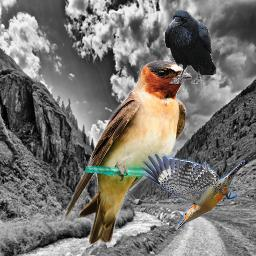Crow: (164, 9, 217, 84)
Swallow: (62, 60, 192, 245)
Woodpecker: (138, 152, 245, 232)
